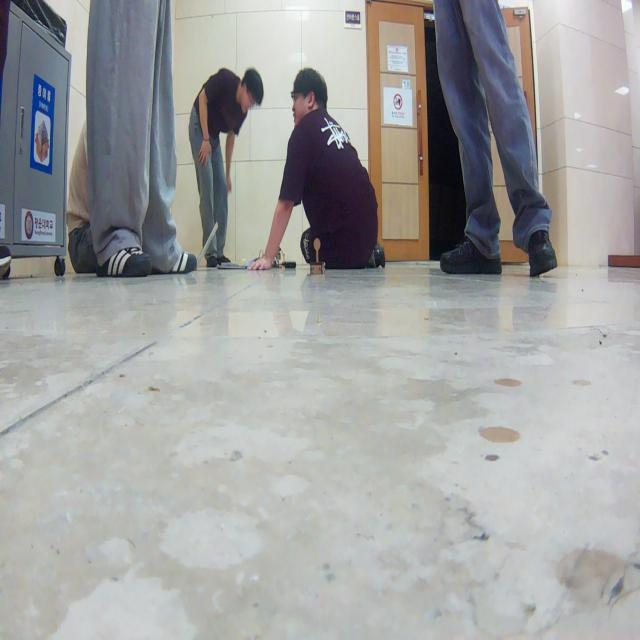target: (310, 238, 326, 274)
